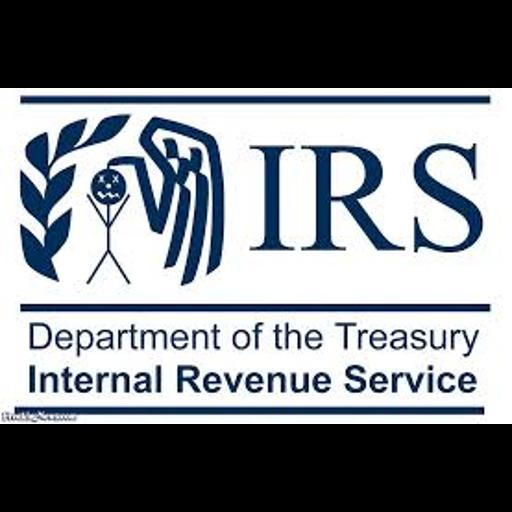IRS: (0, 88, 512, 424)
